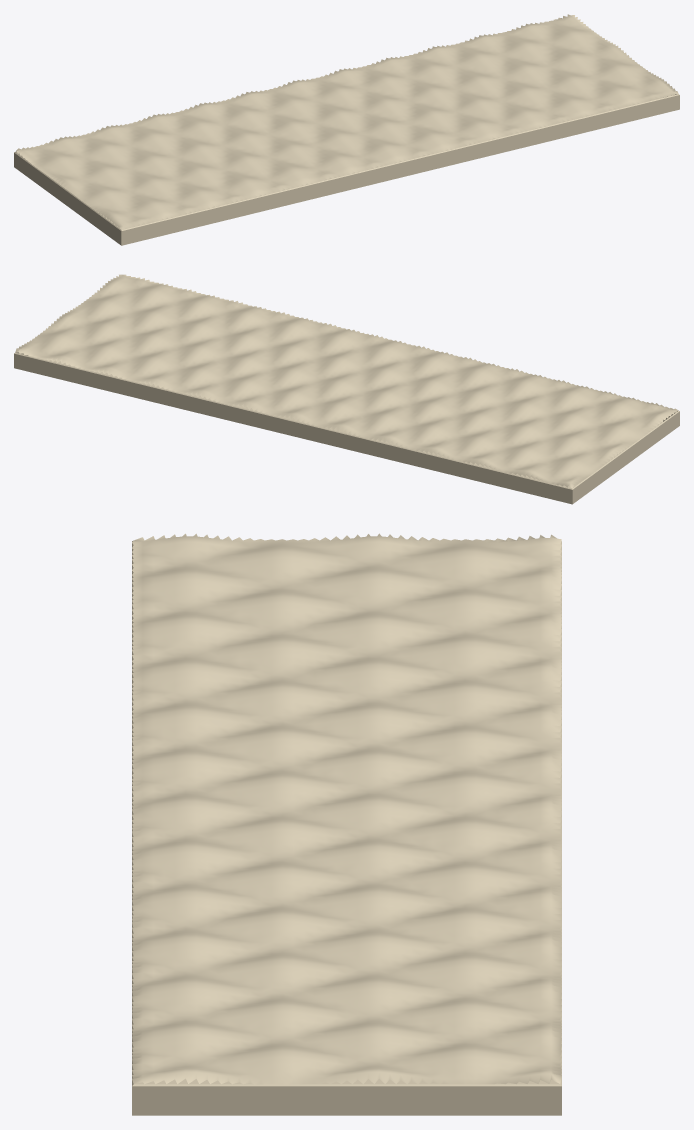
The model's file is mahsulot.glb.
3 renders of one model, top to bottom at view 1: azimuth 30°, elevation 25°; view 2: azimuth 150°, elevation 25°; view 3: azimuth 270°, elevation 25°, orthographic. The views are drawn at different scales.
Parts seen in each view (by area): view 1: mahsulot; view 2: mahsulot; view 3: mahsulot.
Boxes of the visible parts, x1,y1,x2,y2 form: mahsulot: [14, 14, 679, 245]; mahsulot: [14, 274, 679, 504]; mahsulot: [132, 533, 561, 1115].
Size of the model in its own units: 1.2 by 0.0429 by 0.4.
